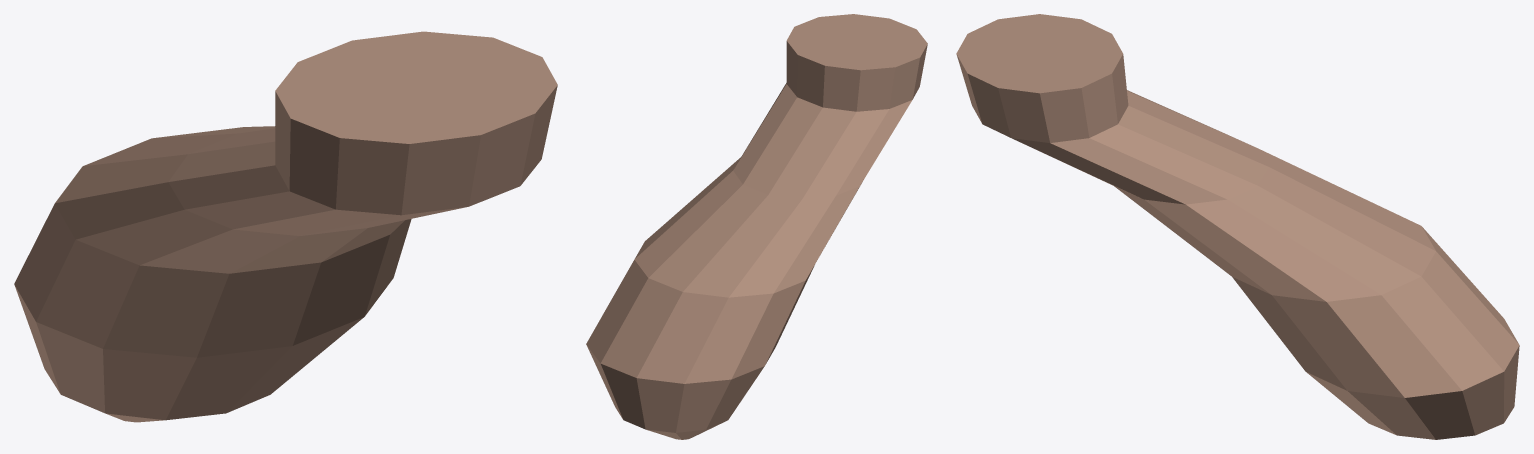
File: ScrotumRight.fbx
The picture shows the model from 3 angles, left to right: view 1: azimuth 30°, elevation 25°; view 2: azimuth 150°, elevation 25°; view 3: azimuth 270°, elevation 25°; orthographic projection. The views are drawn at different scales.
Parts seen in each view (by area): view 1: ScrotumRight_Skin; view 2: ScrotumRight_Skin; view 3: ScrotumRight_Skin.
Boxes of the visible parts, x1,y1,x2,y2 form: ScrotumRight_Skin: (14,31,557,422); ScrotumRight_Skin: (586,14,927,439); ScrotumRight_Skin: (956,14,1519,439).
Bounding box in the file's own units: 0.052 × 0.077 × 0.108.
